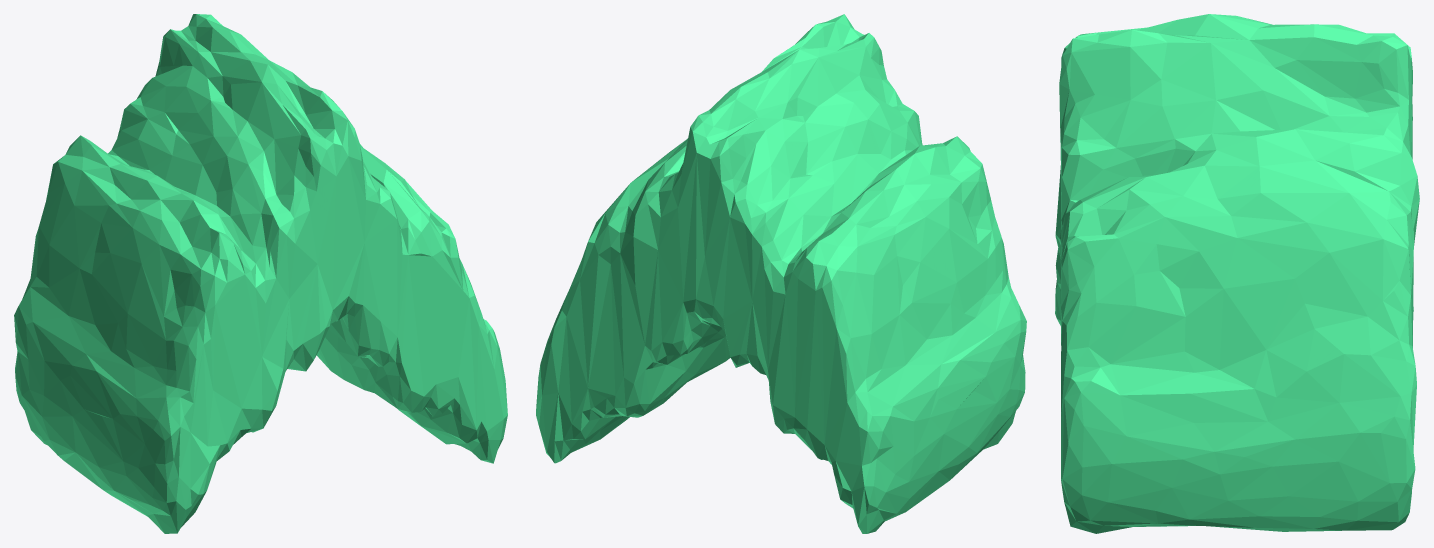
File: rock.fbx
3 views of the same model, side by side, from view 1: azimuth 30°, elevation 25°; view 2: azimuth 150°, elevation 25°; view 3: azimuth 270°, elevation 25° (orthographic). The views are drawn at different scales.
Parts seen in each view (by area): view 1: 0rock; view 2: 0rock; view 3: 0rock.
Part boxes in pixels (left/top/right/bottom): 0rock: left=14, top=14, right=507, bottom=533; 0rock: left=536, top=14, right=1026, bottom=533; 0rock: left=1055, top=14, right=1419, bottom=533.
Size of the model in its own units: 182 by 198 by 150.
